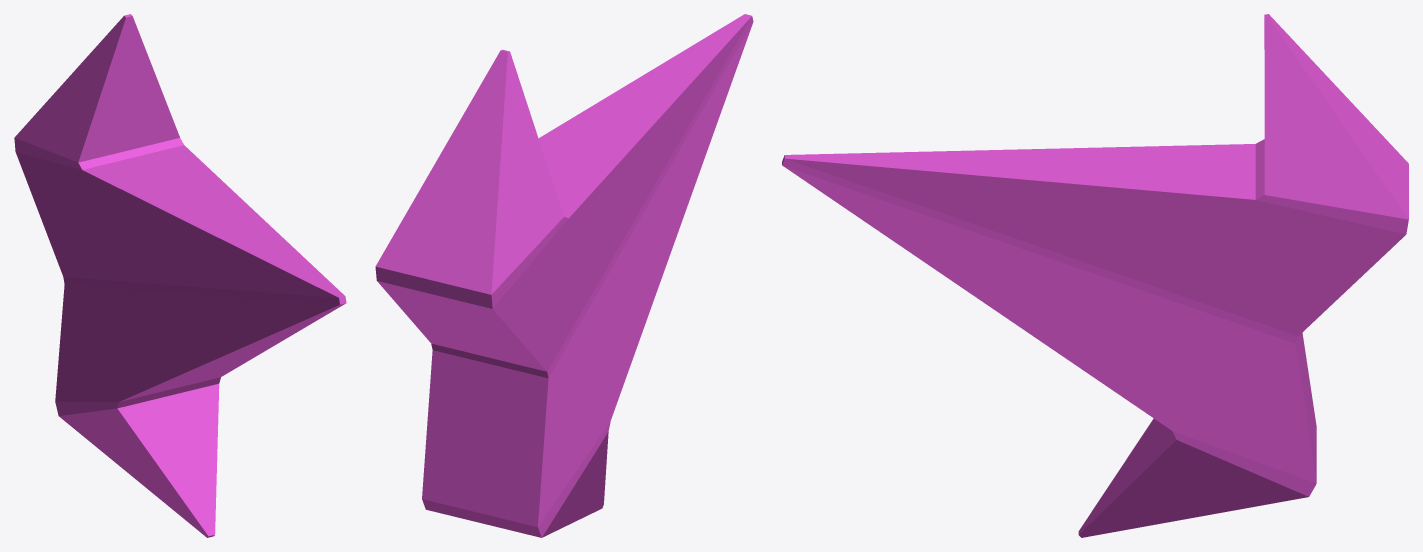
Rendered from Starfragment5.fbx.
3 views of the same model, side by side, from view 1: azimuth 30°, elevation 25°; view 2: azimuth 150°, elevation 25°; view 3: azimuth 270°, elevation 25° (orthographic). The views are drawn at different scales.
Visible parts, largest first — view 1: Cube.005; view 2: Cube.005; view 3: Cube.005.
Part boxes in pixels (<box>): Cube.005: <box>14,14,346,537</box>; Cube.005: <box>375,14,753,537</box>; Cube.005: <box>782,14,1408,537</box>.
Bounding box in the file's own units: 42.51 × 184 × 201.
